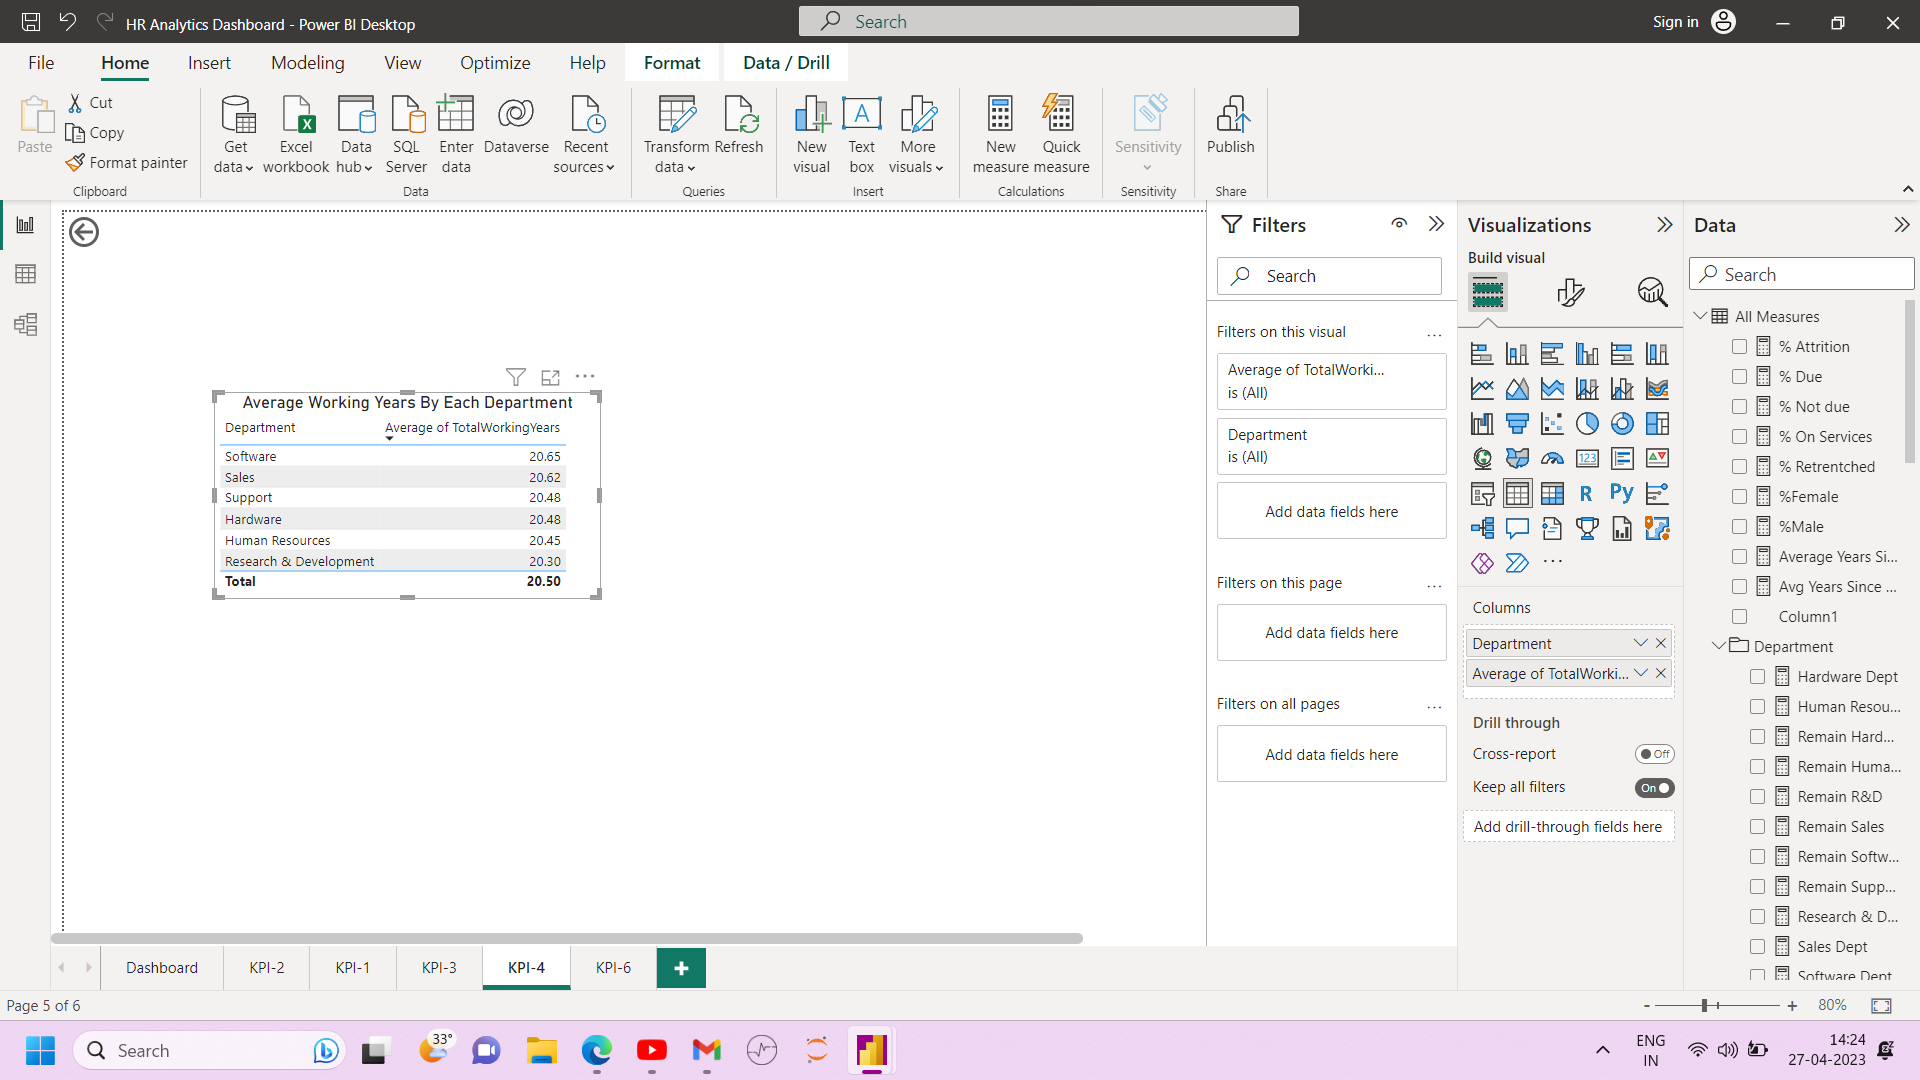

Layout of this report page (visuals, bound fields, positions):
{"tool":"powerbi","page":{"name":"KPI-4","canvas":[1280,720],"ordinal":4},"visuals":[{"type":"actionButton","box":[0,0,100,40],"z":0},{"type":"tableEx","title":"Average Working Years By Each Department","fields":{"Values":["Merge1.Department","Avg(Merge1.TotalWorkingYears)"]},"box":[150,180,387.5,207.5],"z":1000}]}

Visuals, with their boxes on the page's 1280x720 design canvas (x1, y1, x2, y2). These are canvas units, not pixel positions in the 1920x1080 screenshot, which may show the page scaled, cropped or inside an application window:
actionButton: <bbox>0, 0, 100, 40</bbox>
"Average Working Years By Each Department" tableEx: <bbox>150, 180, 538, 388</bbox>
